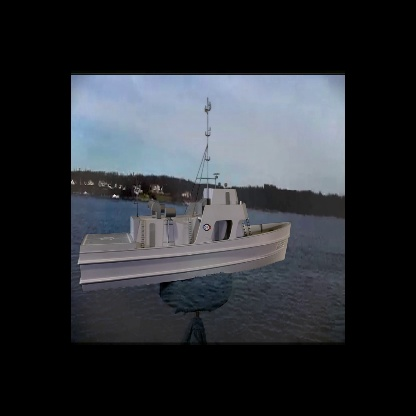YP689: (78, 95, 292, 294)
